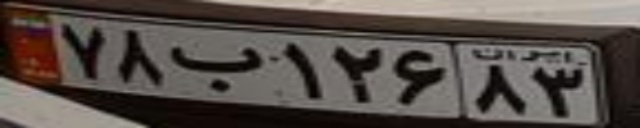1: (283, 42, 322, 98)
2: (333, 45, 381, 103)
3: (534, 66, 585, 118)
6: (393, 48, 445, 104)
7: (58, 24, 105, 81)
8: (473, 63, 528, 115), (116, 29, 165, 84)
be: (169, 44, 264, 93)
